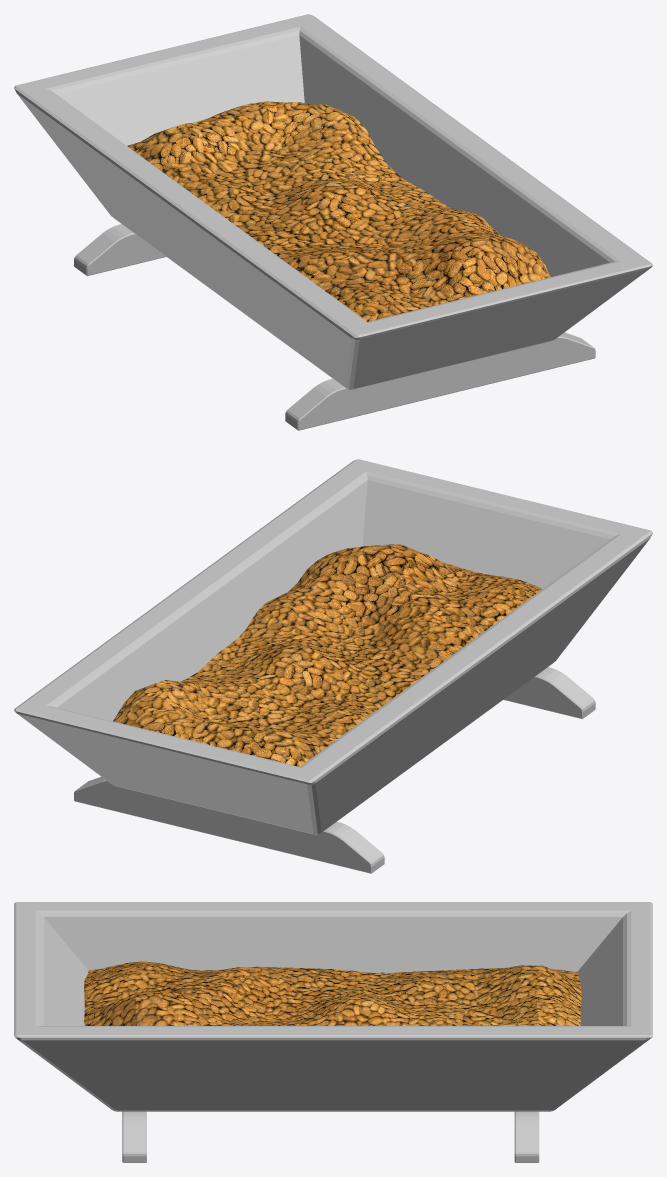
File: Chicken feeder full.fbx
3 renders of one model, top to bottom at view 1: azimuth 30°, elevation 25°; view 2: azimuth 150°, elevation 25°; view 3: azimuth 270°, elevation 25°, orthographic. The views are drawn at different scales.
Visible parts, largest first — view 1: Plane, Plane.001; view 2: Plane, Plane.001; view 3: Plane, Plane.001.
Boxes of the visible parts, box(x1,y1,x2,y2) form: Plane: box(14, 14, 652, 430); Plane.001: box(127, 101, 550, 321); Plane: box(14, 459, 652, 873); Plane.001: box(113, 544, 541, 766); Plane: box(14, 902, 652, 1162); Plane.001: box(84, 961, 581, 1025).
Bounding box in the file's own units: 146 × 63.79 × 291.
